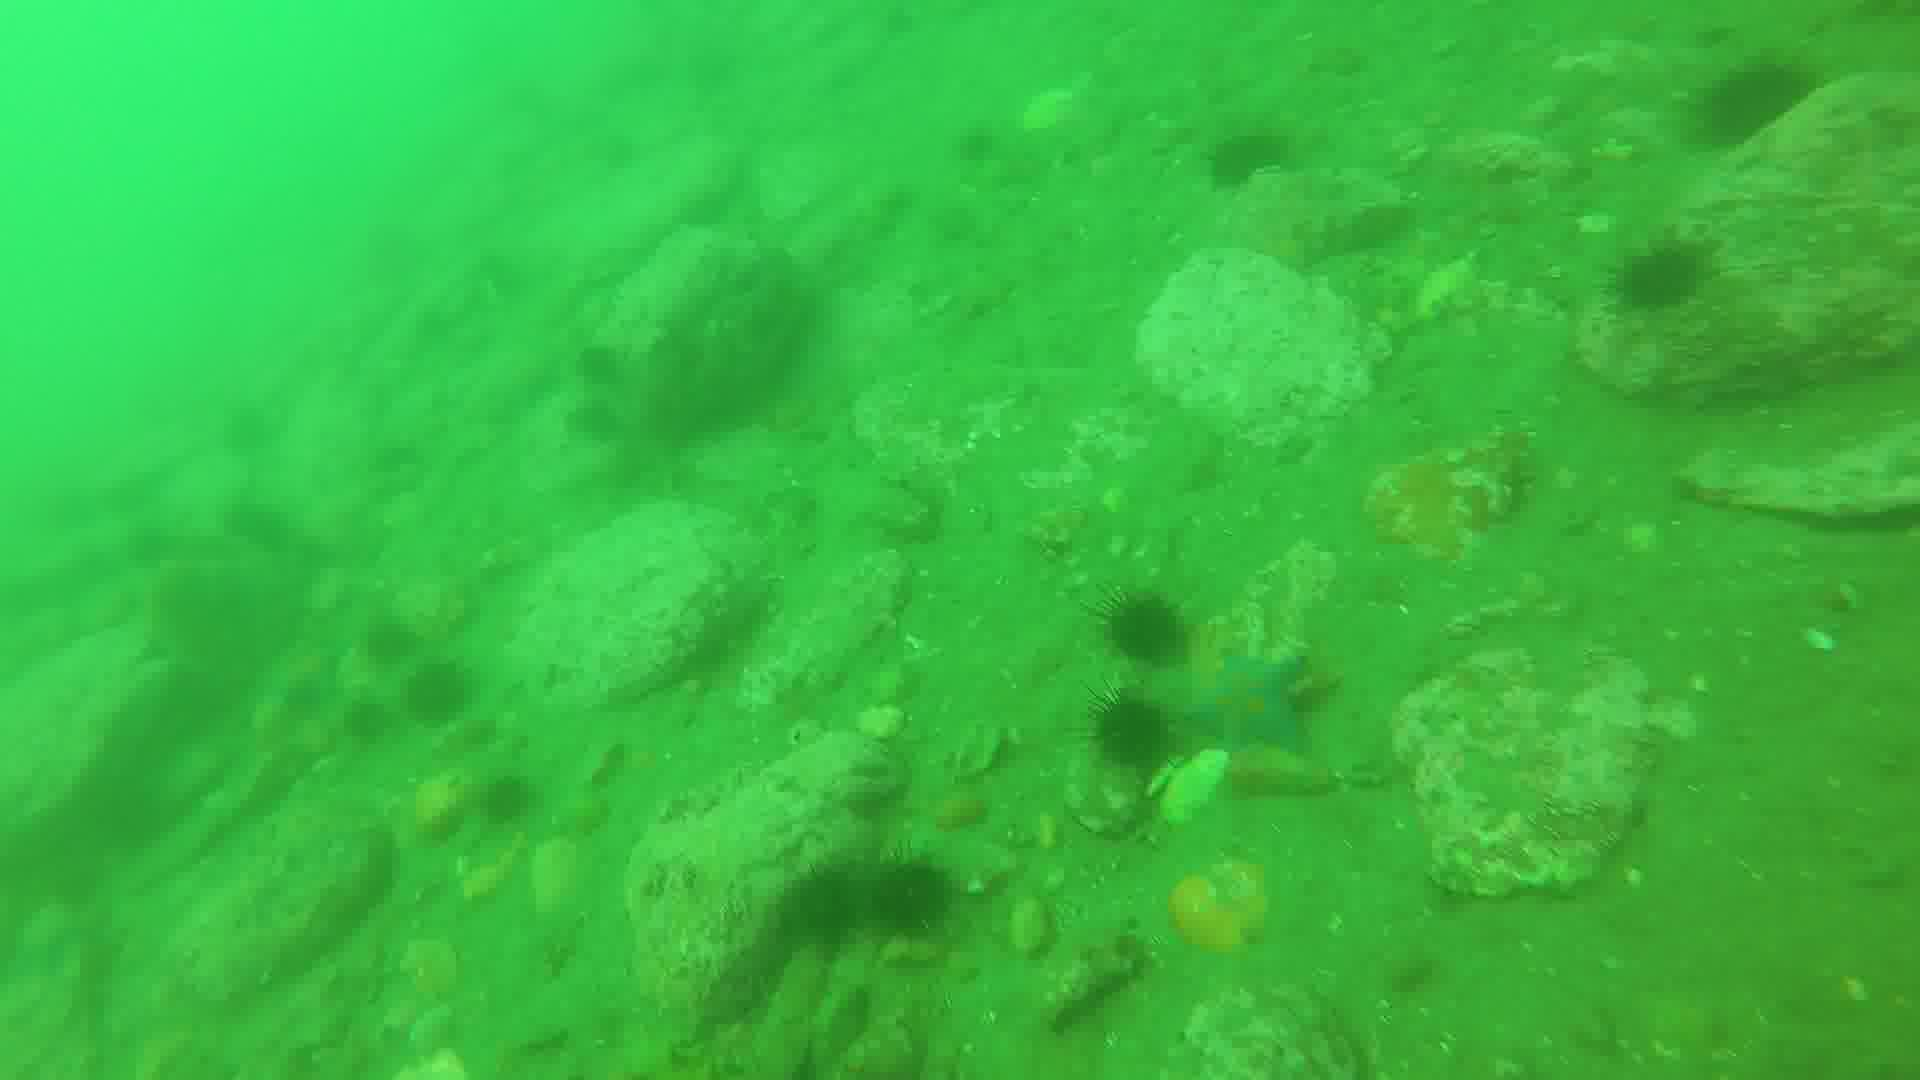echinus: (1702, 53, 1805, 150), (873, 851, 964, 935), (1106, 580, 1197, 665), (1095, 688, 1170, 785), (1619, 239, 1716, 313), (1207, 124, 1305, 189), (793, 869, 876, 944), (404, 655, 472, 721), (353, 612, 429, 669), (473, 771, 543, 828), (571, 342, 622, 392), (348, 700, 400, 729)
starfish: (1188, 657, 1319, 756)
